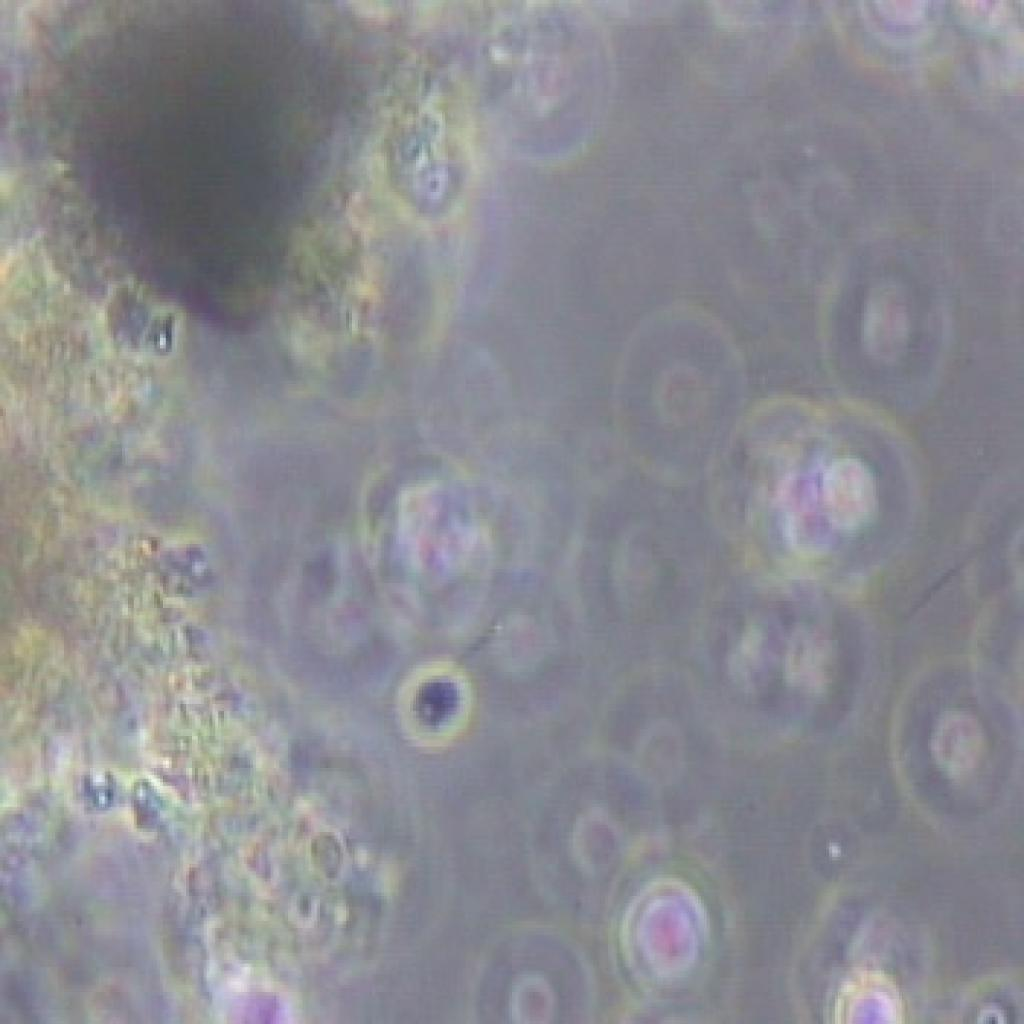Flagellates: (391, 617, 493, 763)
